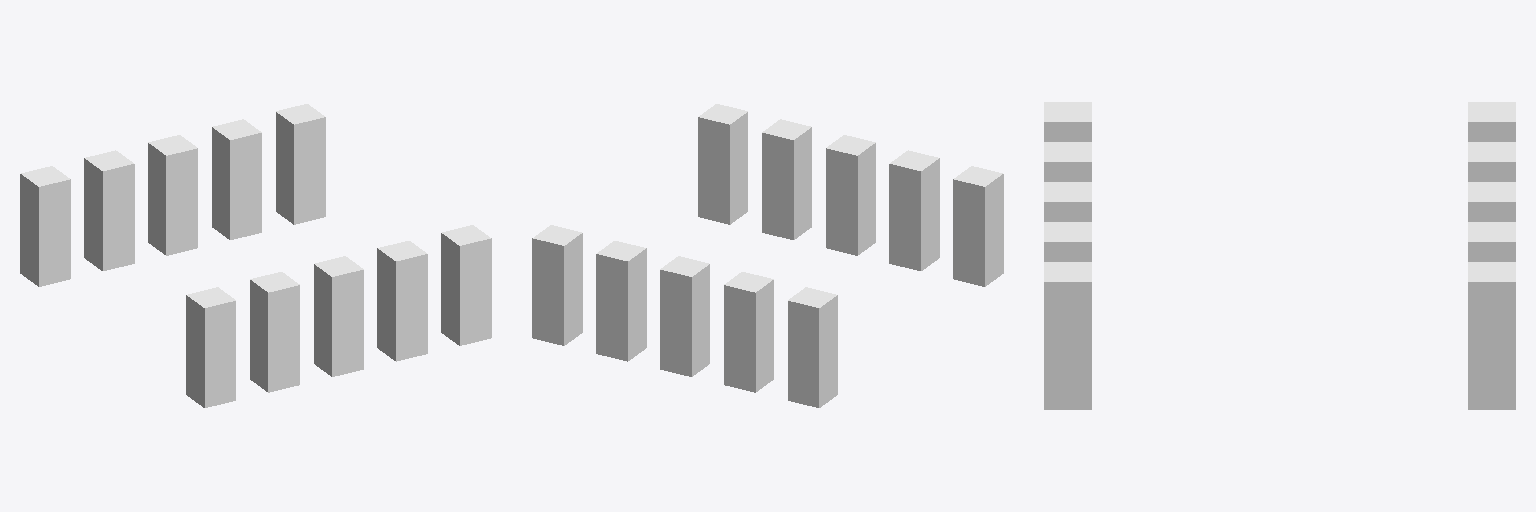
The robot description file, URDF, robot "whouse":
<?xml version="1.0" ?>
<robot name="whouse">
  <link name="whouse_base"/>

  <link name="block_0_1">
    <visual>
      <origin xyz="0 0 0"/>
      <geometry>
        <box size="1.0 1.0 3.0"/>
      </geometry>
      <material name="wall">
        <color rgba="1 1 1 1"/>
      </material>
    </visual>
    <collision>
      <origin xyz="0 0 0"/>
      <geometry>
        <box size="1.0 1.0 3.0"/>
      </geometry>
    </collision>
    <inertial>
      <mass value="0"/> <!-- static -->
      <inertia ixx="0" iyy="0" izz="0" ixy="0" ixz="0" iyz="0"/>
    </inertial>
  </link>


  <joint name="joint_block_0_1" type="fixed">
    <parent link="whouse_base"/>
    <child link="block_0_1"/>
    <origin xyz="-3.5 4.5 1.5" rpy="0 0 0"/>
  </joint>


  <link name="block_0_3">
    <visual>
      <origin xyz="0 0 0"/>
      <geometry>
        <box size="1.0 1.0 3.0"/>
      </geometry>
      <material name="wall">
        <color rgba="1 1 1 1"/>
      </material>
    </visual>
    <collision>
      <origin xyz="0 0 0"/>
      <geometry>
        <box size="1.0 1.0 3.0"/>
      </geometry>
    </collision>
    <inertial>
      <mass value="0"/> <!-- static -->
      <inertia ixx="0" iyy="0" izz="0" ixy="0" ixz="0" iyz="0"/>
    </inertial>
  </link>


  <joint name="joint_block_0_3" type="fixed">
    <parent link="whouse_base"/>
    <child link="block_0_3"/>
    <origin xyz="-1.5 4.5 1.5" rpy="0 0 0"/>
  </joint>


  <link name="block_0_5">
    <visual>
      <origin xyz="0 0 0"/>
      <geometry>
        <box size="1.0 1.0 3.0"/>
      </geometry>
      <material name="wall">
        <color rgba="1 1 1 1"/>
      </material>
    </visual>
    <collision>
      <origin xyz="0 0 0"/>
      <geometry>
        <box size="1.0 1.0 3.0"/>
      </geometry>
    </collision>
    <inertial>
      <mass value="0"/> <!-- static -->
      <inertia ixx="0" iyy="0" izz="0" ixy="0" ixz="0" iyz="0"/>
    </inertial>
  </link>


  <joint name="joint_block_0_5" type="fixed">
    <parent link="whouse_base"/>
    <child link="block_0_5"/>
    <origin xyz="0.5 4.5 1.5" rpy="0 0 0"/>
  </joint>


  <link name="block_0_7">
    <visual>
      <origin xyz="0 0 0"/>
      <geometry>
        <box size="1.0 1.0 3.0"/>
      </geometry>
      <material name="wall">
        <color rgba="1 1 1 1"/>
      </material>
    </visual>
    <collision>
      <origin xyz="0 0 0"/>
      <geometry>
        <box size="1.0 1.0 3.0"/>
      </geometry>
    </collision>
    <inertial>
      <mass value="0"/> <!-- static -->
      <inertia ixx="0" iyy="0" izz="0" ixy="0" ixz="0" iyz="0"/>
    </inertial>
  </link>


  <joint name="joint_block_0_7" type="fixed">
    <parent link="whouse_base"/>
    <child link="block_0_7"/>
    <origin xyz="2.5 4.5 1.5" rpy="0 0 0"/>
  </joint>


  <link name="block_0_9">
    <visual>
      <origin xyz="0 0 0"/>
      <geometry>
        <box size="1.0 1.0 3.0"/>
      </geometry>
      <material name="wall">
        <color rgba="1 1 1 1"/>
      </material>
    </visual>
    <collision>
      <origin xyz="0 0 0"/>
      <geometry>
        <box size="1.0 1.0 3.0"/>
      </geometry>
    </collision>
    <inertial>
      <mass value="0"/> <!-- static -->
      <inertia ixx="0" iyy="0" izz="0" ixy="0" ixz="0" iyz="0"/>
    </inertial>
  </link>


  <joint name="joint_block_0_9" type="fixed">
    <parent link="whouse_base"/>
    <child link="block_0_9"/>
    <origin xyz="4.5 4.5 1.5" rpy="0 0 0"/>
  </joint>


  <link name="block_9_1">
    <visual>
      <origin xyz="0 0 0"/>
      <geometry>
        <box size="1.0 1.0 3.0"/>
      </geometry>
      <material name="wall">
        <color rgba="1 1 1 1"/>
      </material>
    </visual>
    <collision>
      <origin xyz="0 0 0"/>
      <geometry>
        <box size="1.0 1.0 3.0"/>
      </geometry>
    </collision>
    <inertial>
      <mass value="0"/> <!-- static -->
      <inertia ixx="0" iyy="0" izz="0" ixy="0" ixz="0" iyz="0"/>
    </inertial>
  </link>


  <joint name="joint_block_9_1" type="fixed">
    <parent link="whouse_base"/>
    <child link="block_9_1"/>
    <origin xyz="-3.5 -4.5 1.5" rpy="0 0 0"/>
  </joint>


  <link name="block_9_3">
    <visual>
      <origin xyz="0 0 0"/>
      <geometry>
        <box size="1.0 1.0 3.0"/>
      </geometry>
      <material name="wall">
        <color rgba="1 1 1 1"/>
      </material>
    </visual>
    <collision>
      <origin xyz="0 0 0"/>
      <geometry>
        <box size="1.0 1.0 3.0"/>
      </geometry>
    </collision>
    <inertial>
      <mass value="0"/> <!-- static -->
      <inertia ixx="0" iyy="0" izz="0" ixy="0" ixz="0" iyz="0"/>
    </inertial>
  </link>


  <joint name="joint_block_9_3" type="fixed">
    <parent link="whouse_base"/>
    <child link="block_9_3"/>
    <origin xyz="-1.5 -4.5 1.5" rpy="0 0 0"/>
  </joint>


  <link name="block_9_5">
    <visual>
      <origin xyz="0 0 0"/>
      <geometry>
        <box size="1.0 1.0 3.0"/>
      </geometry>
      <material name="wall">
        <color rgba="1 1 1 1"/>
      </material>
    </visual>
    <collision>
      <origin xyz="0 0 0"/>
      <geometry>
        <box size="1.0 1.0 3.0"/>
      </geometry>
    </collision>
    <inertial>
      <mass value="0"/> <!-- static -->
      <inertia ixx="0" iyy="0" izz="0" ixy="0" ixz="0" iyz="0"/>
    </inertial>
  </link>


  <joint name="joint_block_9_5" type="fixed">
    <parent link="whouse_base"/>
    <child link="block_9_5"/>
    <origin xyz="0.5 -4.5 1.5" rpy="0 0 0"/>
  </joint>


  <link name="block_9_7">
    <visual>
      <origin xyz="0 0 0"/>
      <geometry>
        <box size="1.0 1.0 3.0"/>
      </geometry>
      <material name="wall">
        <color rgba="1 1 1 1"/>
      </material>
    </visual>
    <collision>
      <origin xyz="0 0 0"/>
      <geometry>
        <box size="1.0 1.0 3.0"/>
      </geometry>
    </collision>
    <inertial>
      <mass value="0"/> <!-- static -->
      <inertia ixx="0" iyy="0" izz="0" ixy="0" ixz="0" iyz="0"/>
    </inertial>
  </link>


  <joint name="joint_block_9_7" type="fixed">
    <parent link="whouse_base"/>
    <child link="block_9_7"/>
    <origin xyz="2.5 -4.5 1.5" rpy="0 0 0"/>
  </joint>


  <link name="block_9_9">
    <visual>
      <origin xyz="0 0 0"/>
      <geometry>
        <box size="1.0 1.0 3.0"/>
      </geometry>
      <material name="wall">
        <color rgba="1 1 1 1"/>
      </material>
    </visual>
    <collision>
      <origin xyz="0 0 0"/>
      <geometry>
        <box size="1.0 1.0 3.0"/>
      </geometry>
    </collision>
    <inertial>
      <mass value="0"/> <!-- static -->
      <inertia ixx="0" iyy="0" izz="0" ixy="0" ixz="0" iyz="0"/>
    </inertial>
  </link>


  <joint name="joint_block_9_9" type="fixed">
    <parent link="whouse_base"/>
    <child link="block_9_9"/>
    <origin xyz="4.5 -4.5 1.5" rpy="0 0 0"/>
  </joint>

</robot>

--- What the picture shows (computed from the rendered views, not written in the file) ---
The picture shows the robot from 3 angles, left to right: view 1: azimuth 30°, elevation 25°; view 2: azimuth 150°, elevation 25°; view 3: azimuth 270°, elevation 25°; orthographic projection.
Model whouse with 11 links and 10 joints (10 fixed), rooted at whouse_base, posed every joint at zero.
Links seen in each view (by area): view 1: block_0_1, block_9_9, block_0_3, block_9_7, block_0_5, block_9_5, block_0_7, block_0_9, block_9_1, block_9_3; view 2: block_0_9, block_9_1, block_0_7, block_9_3, block_0_5, block_9_5, block_0_1, block_0_3, block_9_7, block_9_9; view 3: block_0_9, block_9_9, block_0_1, block_0_3, block_0_5, block_0_7, block_9_1, block_9_3, block_9_5, block_9_7.
Boxes of the visible links, left/top/right/bottom form: block_0_1: left=20, top=166, right=70, bottom=286; block_9_9: left=441, top=225, right=491, bottom=345; block_0_3: left=84, top=150, right=134, bottom=270; block_9_7: left=377, top=241, right=427, bottom=361; block_0_5: left=148, top=135, right=197, bottom=255; block_9_5: left=314, top=256, right=363, bottom=376; block_0_7: left=212, top=119, right=261, bottom=239; block_0_9: left=276, top=104, right=325, bottom=224; block_9_1: left=186, top=287, right=235, bottom=407; block_9_3: left=250, top=272, right=299, bottom=392; block_0_9: left=532, top=225, right=582, bottom=345; block_9_1: left=953, top=166, right=1003, bottom=286; block_0_7: left=596, top=241, right=646, bottom=361; block_9_3: left=889, top=150, right=939, bottom=270; block_0_5: left=660, top=256, right=709, bottom=376; block_9_5: left=826, top=135, right=875, bottom=255; block_0_1: left=788, top=287, right=837, bottom=407; block_0_3: left=724, top=272, right=773, bottom=392; block_9_7: left=762, top=119, right=811, bottom=239; block_9_9: left=698, top=104, right=747, bottom=224; block_0_9: left=1468, top=262, right=1515, bottom=409; block_9_9: left=1044, top=262, right=1091, bottom=409; block_0_1: left=1468, top=102, right=1515, bottom=141; block_0_3: left=1468, top=142, right=1515, bottom=181; block_0_5: left=1468, top=182, right=1515, bottom=221; block_0_7: left=1468, top=222, right=1515, bottom=261; block_9_1: left=1044, top=102, right=1091, bottom=141; block_9_3: left=1044, top=142, right=1091, bottom=181; block_9_5: left=1044, top=182, right=1091, bottom=221; block_9_7: left=1044, top=222, right=1091, bottom=261.
Bounding box of the posed robot: 9 × 10 × 3 m (x, y, z).
Geometry: primitives only (box / cylinder / sphere), no mesh files.